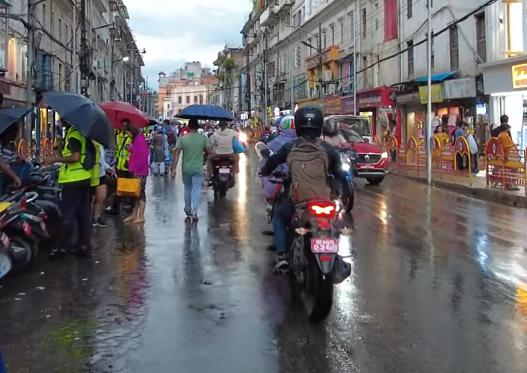bike: (256, 147, 368, 325)
